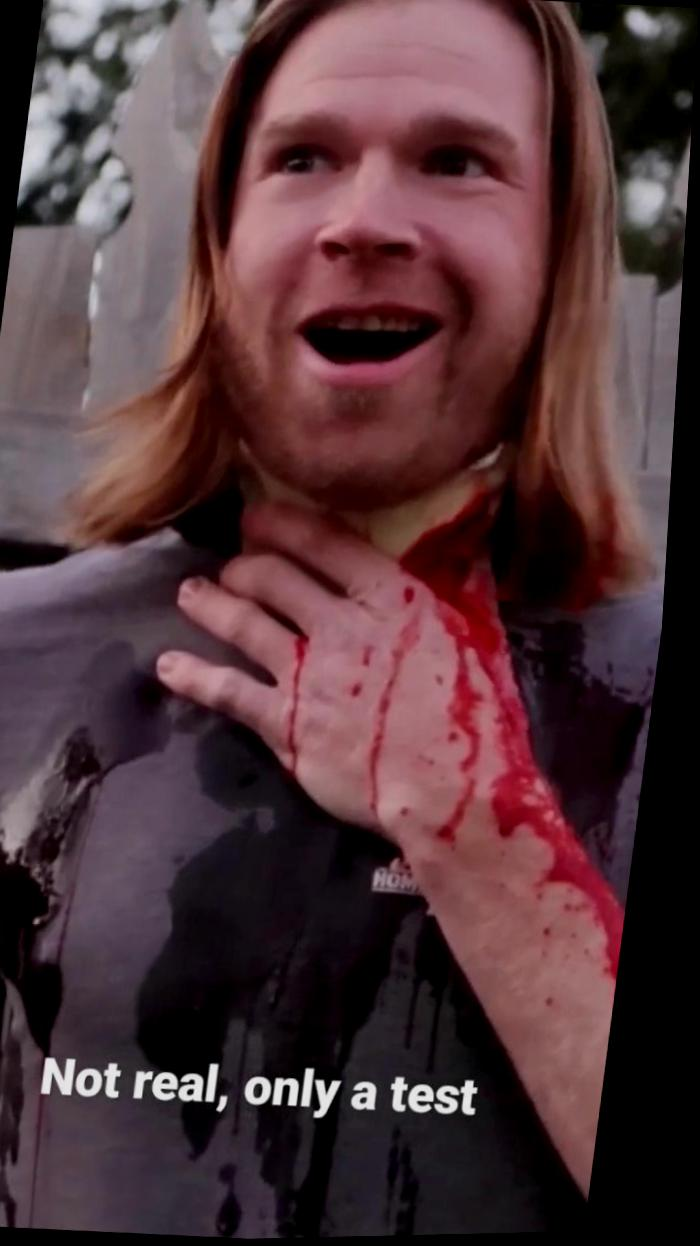Fire: (408, 498, 660, 994), (312, 558, 463, 848), (289, 636, 317, 780)
